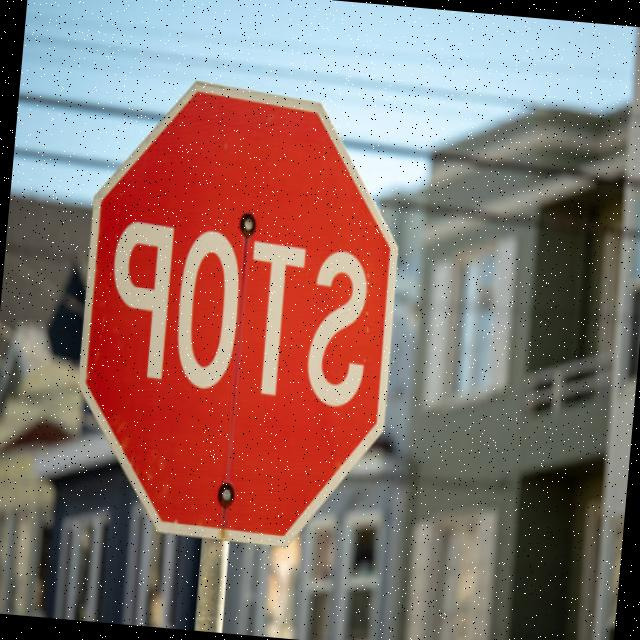stop: (54, 68, 417, 558)
